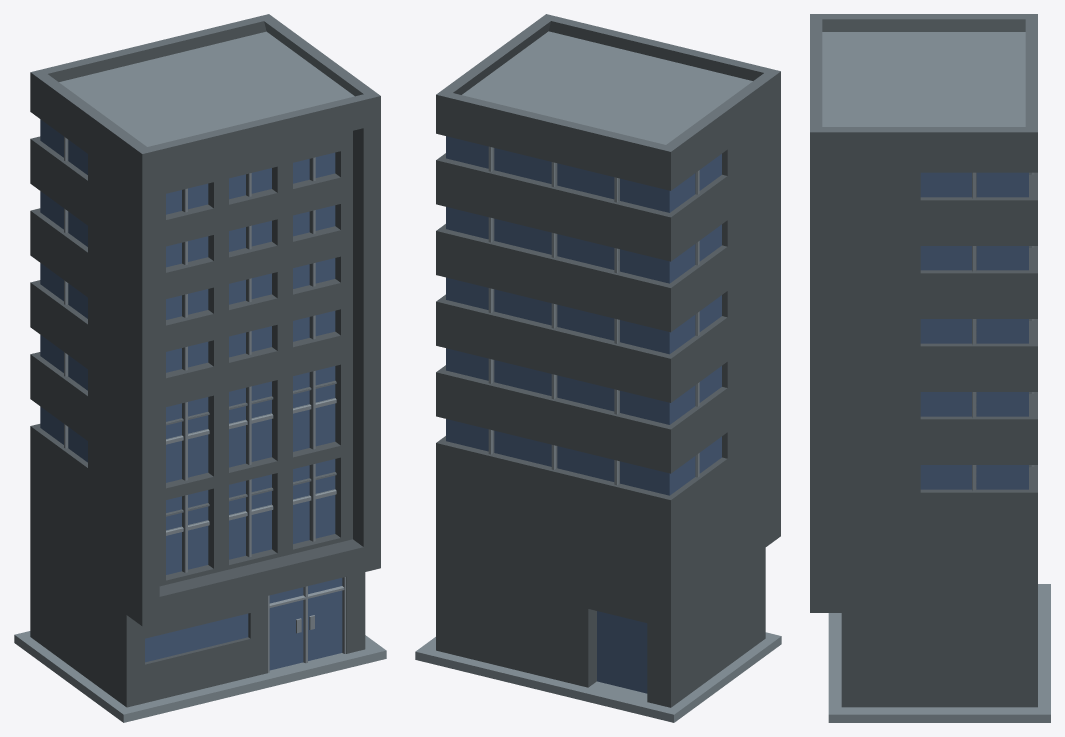
Rendered from SM_Gen_Bld_Background_03.obj.
The picture shows the model from 3 angles, left to right: view 1: azimuth 30°, elevation 25°; view 2: azimuth 150°, elevation 25°; view 3: azimuth 270°, elevation 25°; orthographic projection. The views are drawn at different scales.
Parts seen in each view (by area): view 1: SM_Gen_Bld_Background_03_0, SM_Gen_Bld_Background_03_1; view 2: SM_Gen_Bld_Background_03_0, SM_Gen_Bld_Background_03_1; view 3: SM_Gen_Bld_Background_03_0, SM_Gen_Bld_Background_03_1.
Boxes of the visible parts, box(x1,y1,x2,y2) form: SM_Gen_Bld_Background_03_0: box(14, 14, 386, 722); SM_Gen_Bld_Background_03_1: box(40, 119, 342, 670); SM_Gen_Bld_Background_03_0: box(415, 14, 781, 722); SM_Gen_Bld_Background_03_1: box(446, 136, 721, 693); SM_Gen_Bld_Background_03_0: box(810, 14, 1050, 722); SM_Gen_Bld_Background_03_1: box(920, 172, 1028, 489).
Size of the model in its own units: 8.35 by 17.39 by 6.5.
Materials: 2 (1 with a texture image).
